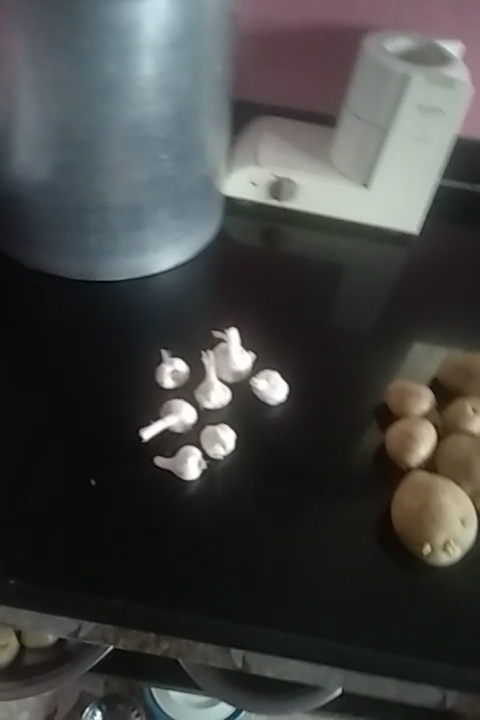garlic: (138, 401, 208, 445), (214, 329, 262, 386), (151, 444, 210, 487), (188, 417, 240, 465), (194, 351, 229, 415), (243, 370, 295, 413), (150, 349, 191, 396)
potato: (397, 471, 480, 565), (380, 418, 434, 474), (431, 432, 480, 493), (387, 372, 437, 419), (439, 350, 480, 396), (443, 403, 480, 445)
